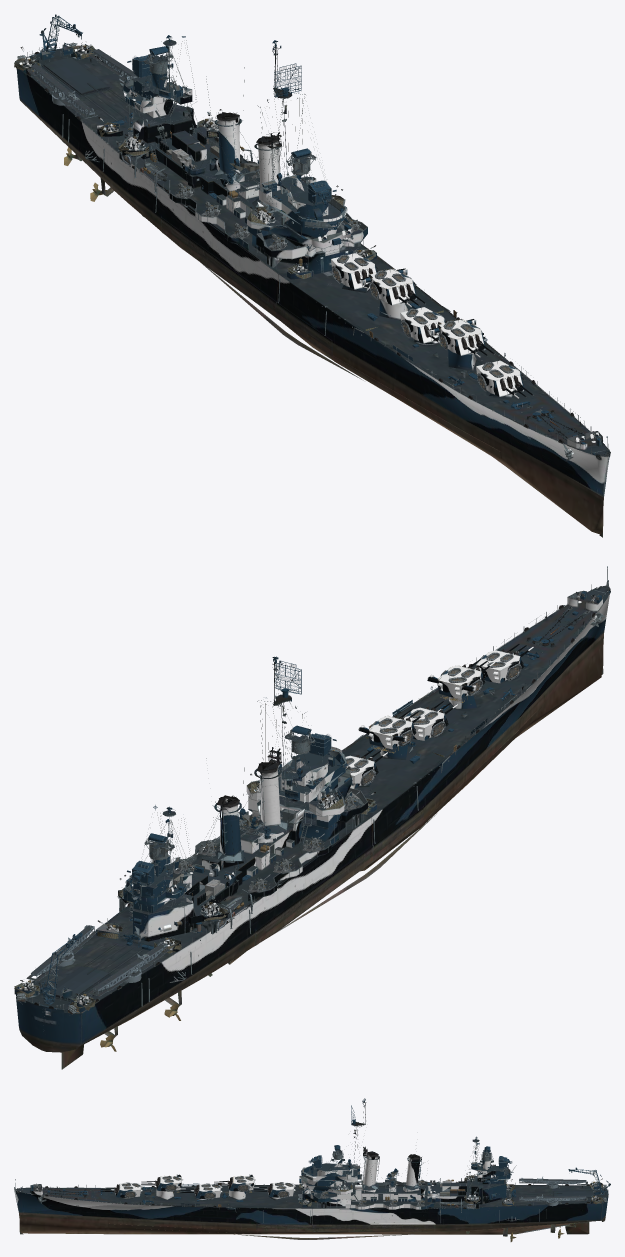
The model's file is cruiser.glb.
The picture shows the model from 3 angles, top to bottom: view 1: azimuth 30°, elevation 25°; view 2: azimuth 150°, elevation 25°; view 3: azimuth 270°, elevation 25°; orthographic projection. The views are drawn at different scales.
Visible parts, largest first — view 1: ASC028_Boise_1951_bow_Boise_asc028_boise_1951_hull_509_0, ASC028_Boise_1951_bow_Material #202_0, ASC028_Boise_1951_bow_Boise_asc028_boise_1951_deckhouse_921_, ASC028_Boise_1951_bow_Boise_agm009_6in47_cl55_skinned_688_0, ASC028_Boise_1951_bow_Boise_am133_boat_7_695_0, ASC028_Boise_1951_bow_Helena_ac002_catapult_2_skinned_858_0, ASC028_Boise_1951_bow_Boise_ags178_5in25_mk27_skinned_936_0, ASC028_Boise_1951_bow_Boise_ad085_director_mk33_642_0, ASC028_Boise_1951_bow_Boise_ad111_director_mk34_old_633_0, ASC028_Boise_1951_bow_Boise_aga056_40mm_bofors_724_0; view 2: ASC028_Boise_1951_bow_Boise_asc028_boise_1951_hull_509_0, ASC028_Boise_1951_bow_Material #202_0, ASC028_Boise_1951_bow_Boise_asc028_boise_1951_deckhouse_921_, ASC028_Boise_1951_bow_Boise_agm009_6in47_cl55_skinned_688_0, ASC028_Boise_1951_bow_Boise_am133_boat_7_695_0, ASC028_Boise_1951_bow_Helena_ac002_catapult_2_skinned_858_0, ASC028_Boise_1951_bow_Boise_ags178_5in25_mk27_skinned_936_0, ASC028_Boise_1951_bow_Boise_ad085_director_mk33_642_0, ASC028_Boise_1951_bow_Boise_ad111_director_mk34_old_633_0, ASC028_Boise_1951_bow_Boise_am076_aircraft_cran_1_616_0; view 3: ASC028_Boise_1951_bow_Boise_asc028_boise_1951_hull_509_0, ASC028_Boise_1951_bow_Material #202_0, ASC028_Boise_1951_bow_Boise_asc028_boise_1951_deckhouse_921_, ASC028_Boise_1951_bow_Boise_agm009_6in47_cl55_skinned_688_0, ASC028_Boise_1951_bow_Boise_am133_boat_7_695_0, ASC028_Boise_1951_bow_Helena_ac002_catapult_2_skinned_858_0, ASC028_Boise_1951_bow_Boise_ags178_5in25_mk27_skinned_936_0, ASC028_Boise_1951_bow_Boise_ad085_director_mk33_642_0, ASC028_Boise_1951_bow_Boise_am076_aircraft_cran_1_616_0.
Boxes of the visible parts, x1,y1,x2,y2 form: ASC028_Boise_1951_bow_Boise_asc028_boise_1951_hull_509_0: [14, 38, 610, 537]; ASC028_Boise_1951_bow_Material #202_0: [17, 57, 609, 456]; ASC028_Boise_1951_bow_Boise_asc028_boise_1951_deckhouse_921_: [14, 45, 443, 330]; ASC028_Boise_1951_bow_Boise_agm009_6in47_cl55_skinned_688_0: [331, 253, 533, 398]; ASC028_Boise_1951_bow_Boise_am133_boat_7_695_0: [332, 254, 521, 391]; ASC028_Boise_1951_bow_Helena_ac002_catapult_2_skinned_858_0: [27, 49, 137, 118]; ASC028_Boise_1951_bow_Boise_ags178_5in25_mk27_skinned_936_0: [174, 169, 360, 250]; ASC028_Boise_1951_bow_Boise_ad085_director_mk33_642_0: [127, 55, 336, 204]; ASC028_Boise_1951_bow_Boise_ad111_director_mk34_old_633_0: [143, 52, 316, 176]; ASC028_Boise_1951_bow_Boise_aga056_40mm_bofors_724_0: [120, 109, 342, 224]; ASC028_Boise_1951_bow_Boise_asc028_boise_1951_hull_509_0: [14, 568, 610, 1069]; ASC028_Boise_1951_bow_Material #202_0: [16, 585, 609, 1052]; ASC028_Boise_1951_bow_Boise_asc028_boise_1951_deckhouse_921_: [14, 736, 444, 1010]; ASC028_Boise_1951_bow_Boise_agm009_6in47_cl55_skinned_688_0: [345, 643, 533, 788]; ASC028_Boise_1951_bow_Boise_am133_boat_7_695_0: [346, 652, 521, 785]; ASC028_Boise_1951_bow_Helena_ac002_catapult_2_skinned_858_0: [26, 925, 170, 996]; ASC028_Boise_1951_bow_Boise_ags178_5in25_mk27_skinned_936_0: [173, 791, 359, 892]; ASC028_Boise_1951_bow_Boise_ad085_director_mk33_642_0: [127, 733, 336, 885]; ASC028_Boise_1951_bow_Boise_ad111_director_mk34_old_633_0: [144, 729, 315, 861]; ASC028_Boise_1951_bow_Boise_am076_aircraft_cran_1_616_0: [40, 932, 82, 1004]; ASC028_Boise_1951_bow_Boise_asc028_boise_1951_hull_509_0: [14, 1101, 608, 1239]; ASC028_Boise_1951_bow_Material #202_0: [15, 1185, 608, 1221]; ASC028_Boise_1951_bow_Boise_asc028_boise_1951_deckhouse_921_: [228, 1147, 603, 1206]; ASC028_Boise_1951_bow_Boise_agm009_6in47_cl55_skinned_688_0: [100, 1174, 295, 1198]; ASC028_Boise_1951_bow_Boise_am133_boat_7_695_0: [121, 1176, 293, 1199]; ASC028_Boise_1951_bow_Helena_ac002_catapult_2_skinned_858_0: [519, 1176, 587, 1203]; ASC028_Boise_1951_bow_Boise_ags178_5in25_mk27_skinned_936_0: [314, 1179, 424, 1206]; ASC028_Boise_1951_bow_Boise_ad085_director_mk33_642_0: [312, 1155, 508, 1168]; ASC028_Boise_1951_bow_Boise_am076_aircraft_cran_1_616_0: [568, 1167, 610, 1194].
Bounding box in the file's own units: 13.41 × 31.09 × 124.
Materials: 73 (72 with a texture image).
